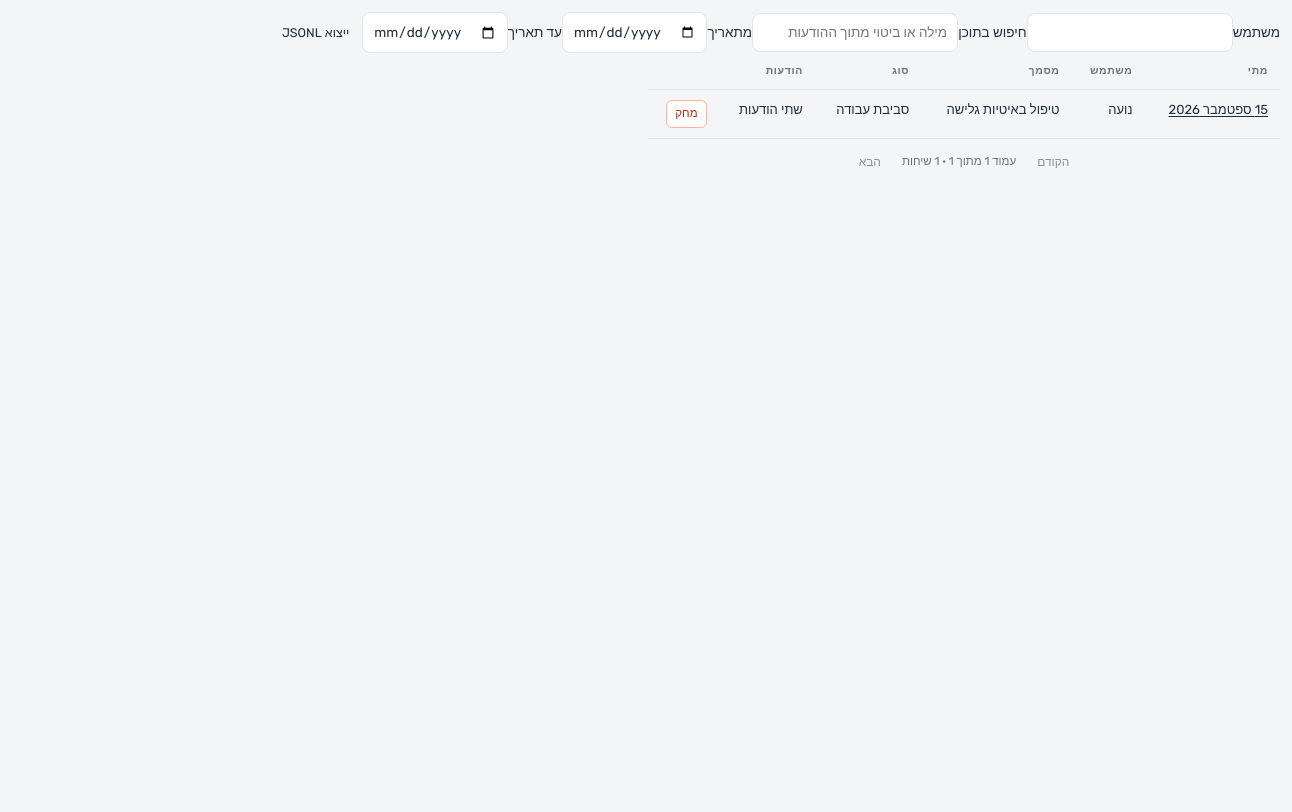
Test: ConversationsTab › deletes a conversation after confirmation
This screenshot has width=1292, height=812.
Click the button "מחק" at (686, 114), box [666, 100, 707, 128]
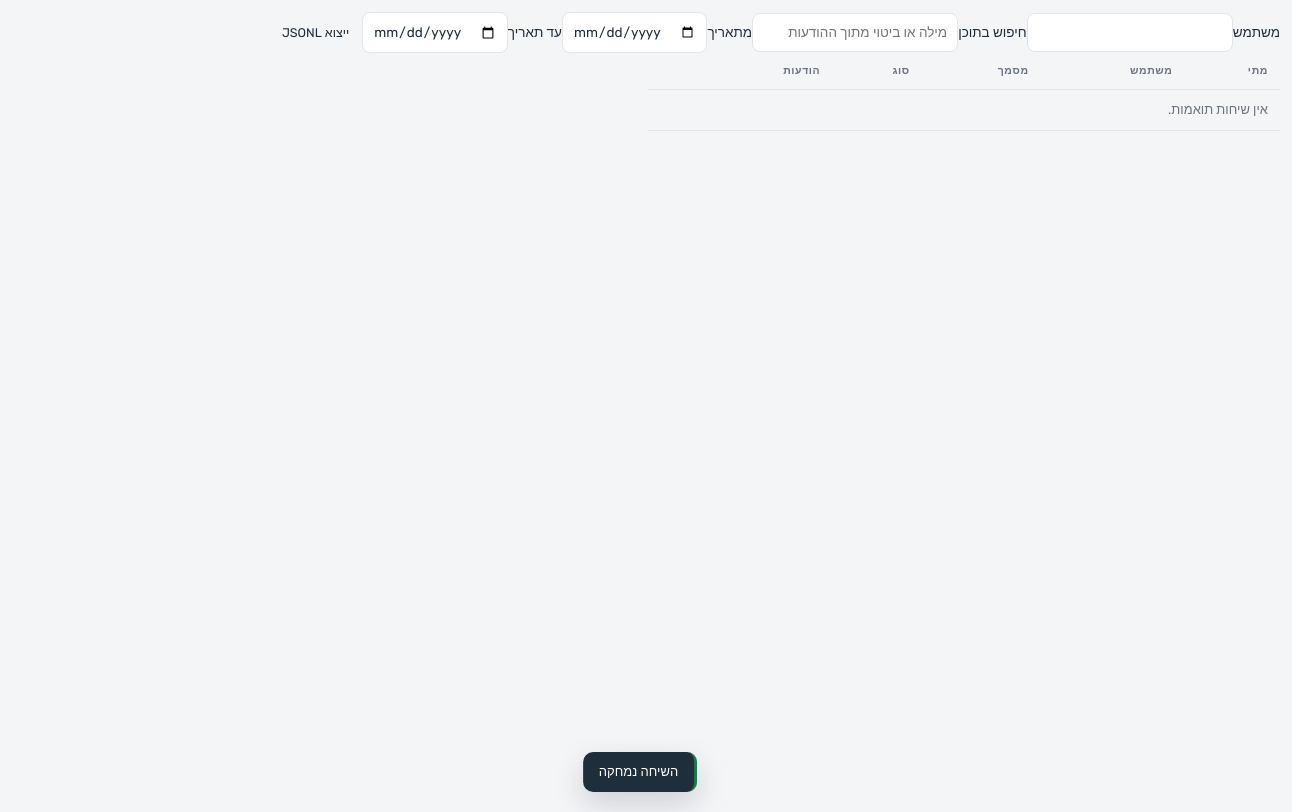
Now the text "אין שיחות תואמות." is shown, box [648, 90, 1280, 131]
